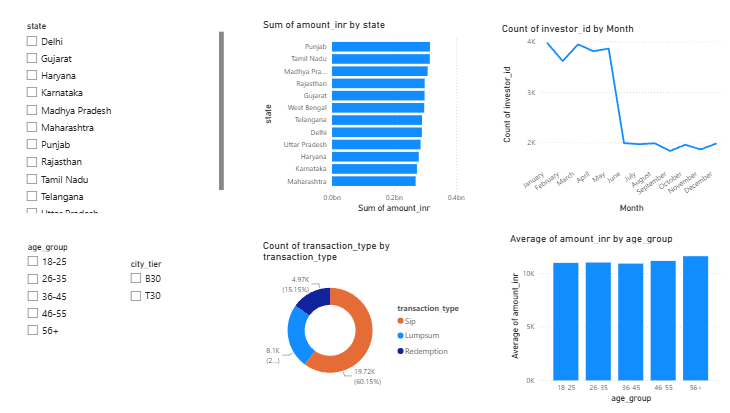

This screenshot's page, from the dashboard's own definition file:
{"tool":"powerbi","page":{"name":"Investor Analytics","canvas":[1280,720],"ordinal":2},"visuals":[{"type":"clusteredBarChart","fields":{"Category":["08_investor_transactions.state"],"Y":["Sum(08_investor_transactions.amount_inr)"]},"box":[465.3,48.7,349.4,332.6],"z":0},{"type":"donutChart","fields":{"Category":["08_investor_transactions.transaction_type"],"Y":["CountNonNull(08_investor_transactions.transaction_type)"]},"box":[465.3,419.9,349.4,268.8],"z":1000},{"type":"clusteredColumnChart","fields":{"Category":["08_investor_transactions.age_group"],"Y":["Avg(08_investor_transactions.amount_inr)"]},"box":[880.2,408.2,366.2,292.3],"z":2000},{"type":"lineChart","fields":{"Category":["08_investor_transactions.transaction_date.Variation.Date Hierarchy.Month"],"Y":["CountNonNull(08_investor_transactions.investor_id)"]},"box":[866.8,55.4,379.6,325.9],"z":2001},{"type":"slicer","fields":{"Values":["08_investor_transactions.state"]},"box":[60.5,48.7,349.4,332.6],"z":2002},{"type":"slicer","fields":{"Values":["08_investor_transactions.age_group"]},"box":[62.2,419.9,132.7,184.8],"z":2003},{"type":"slicer","fields":{"Values":["08_investor_transactions.city_tier"]},"box":[235.2,448.5,100.8,94.1],"z":2004}]}

Visuals, with their boxes in screenshot pixels (x1, y1, x2, y2), scaled from the page's 1280x720 canvas onto the 730x413 screenshot:
clusteredBarChart - 08_investor_transactions.state x Sum(08_investor_transactions.amount_inr): (x1=265, y1=28, x2=465, y2=219)
donutChart - 08_investor_transactions.transaction_type x CountNonNull(08_investor_transactions.transaction_type): (x1=265, y1=241, x2=465, y2=395)
clusteredColumnChart - 08_investor_transactions.age_group x Avg(08_investor_transactions.amount_inr): (x1=502, y1=234, x2=711, y2=402)
lineChart - 08_investor_transactions.transaction_date.Variation.Date Hierarchy.Month x CountNonNull(08_investor_transactions.investor_id): (x1=494, y1=32, x2=711, y2=219)
slicer - 08_investor_transactions.state: (x1=35, y1=28, x2=234, y2=219)
slicer - 08_investor_transactions.age_group: (x1=35, y1=241, x2=111, y2=347)
slicer - 08_investor_transactions.city_tier: (x1=134, y1=257, x2=192, y2=311)
